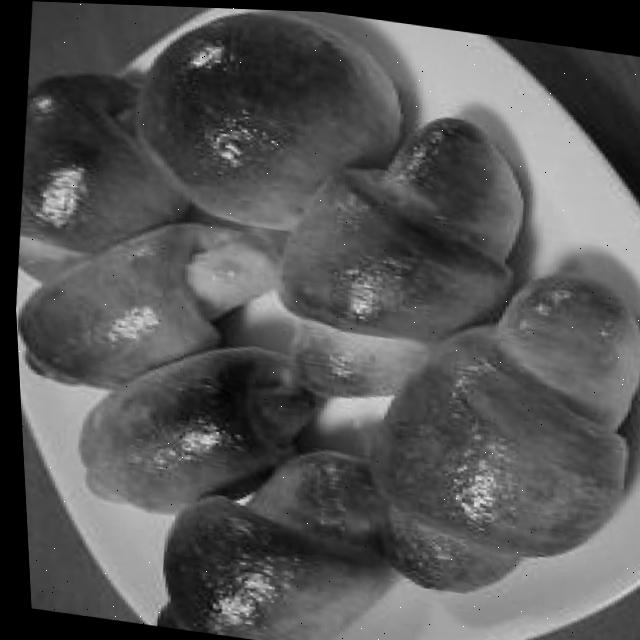面包点心: (332, 231, 640, 624)
